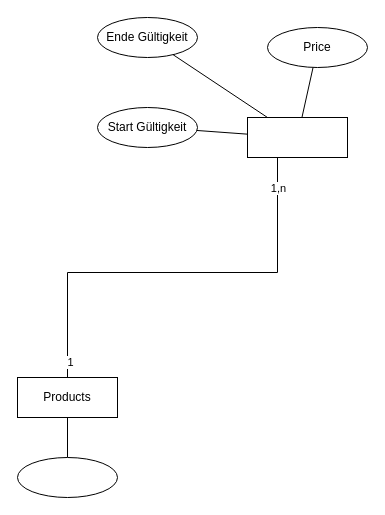
Image size: 385x515. Some labels were removed from this diagram. Each missing label, with the centre of its shape:
Name: (x=67, y=477)
Prices: (x=297, y=137)
